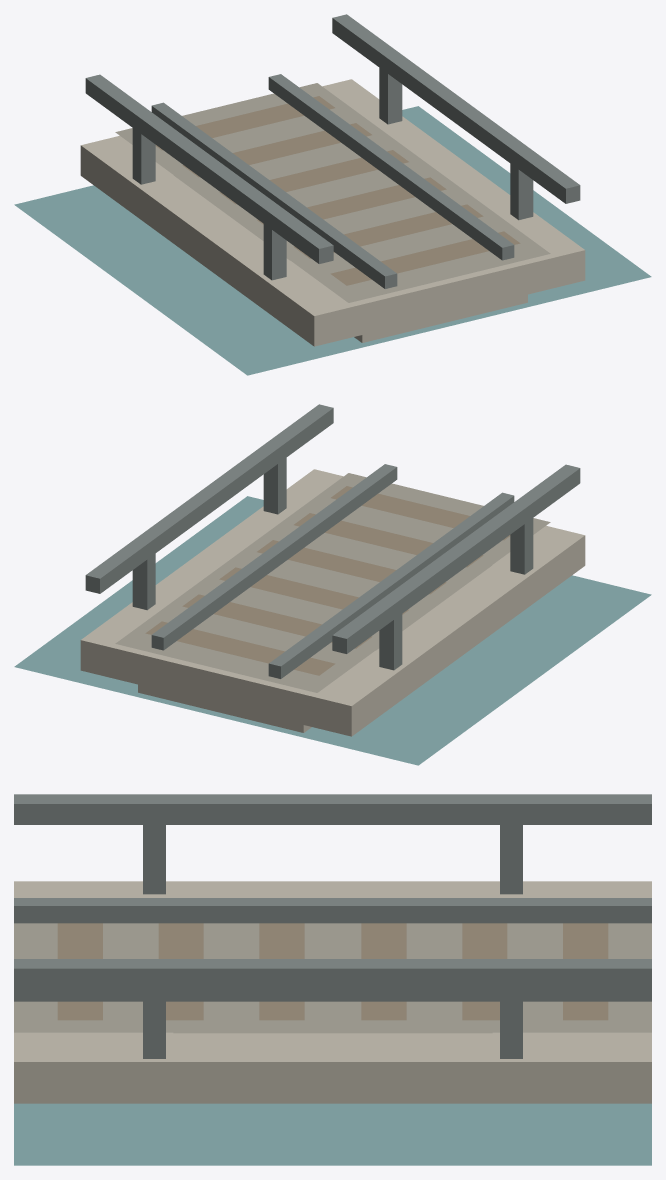
3 renders of one model, top to bottom at view 1: azimuth 30°, elevation 25°; view 2: azimuth 150°, elevation 25°; view 3: azimuth 270°, elevation 25°, orthographic. The views are drawn at different scales.
Parts seen in each view (by area): view 1: Near; view 2: Near; view 3: Near.
Part boxes in pixels (x1,y1,x2,y2): Near: [14, 14, 651, 375]; Near: [14, 404, 651, 765]; Near: [14, 794, 651, 1165].
Bounding box in the file's own units: 1 × 0.258 × 1.
